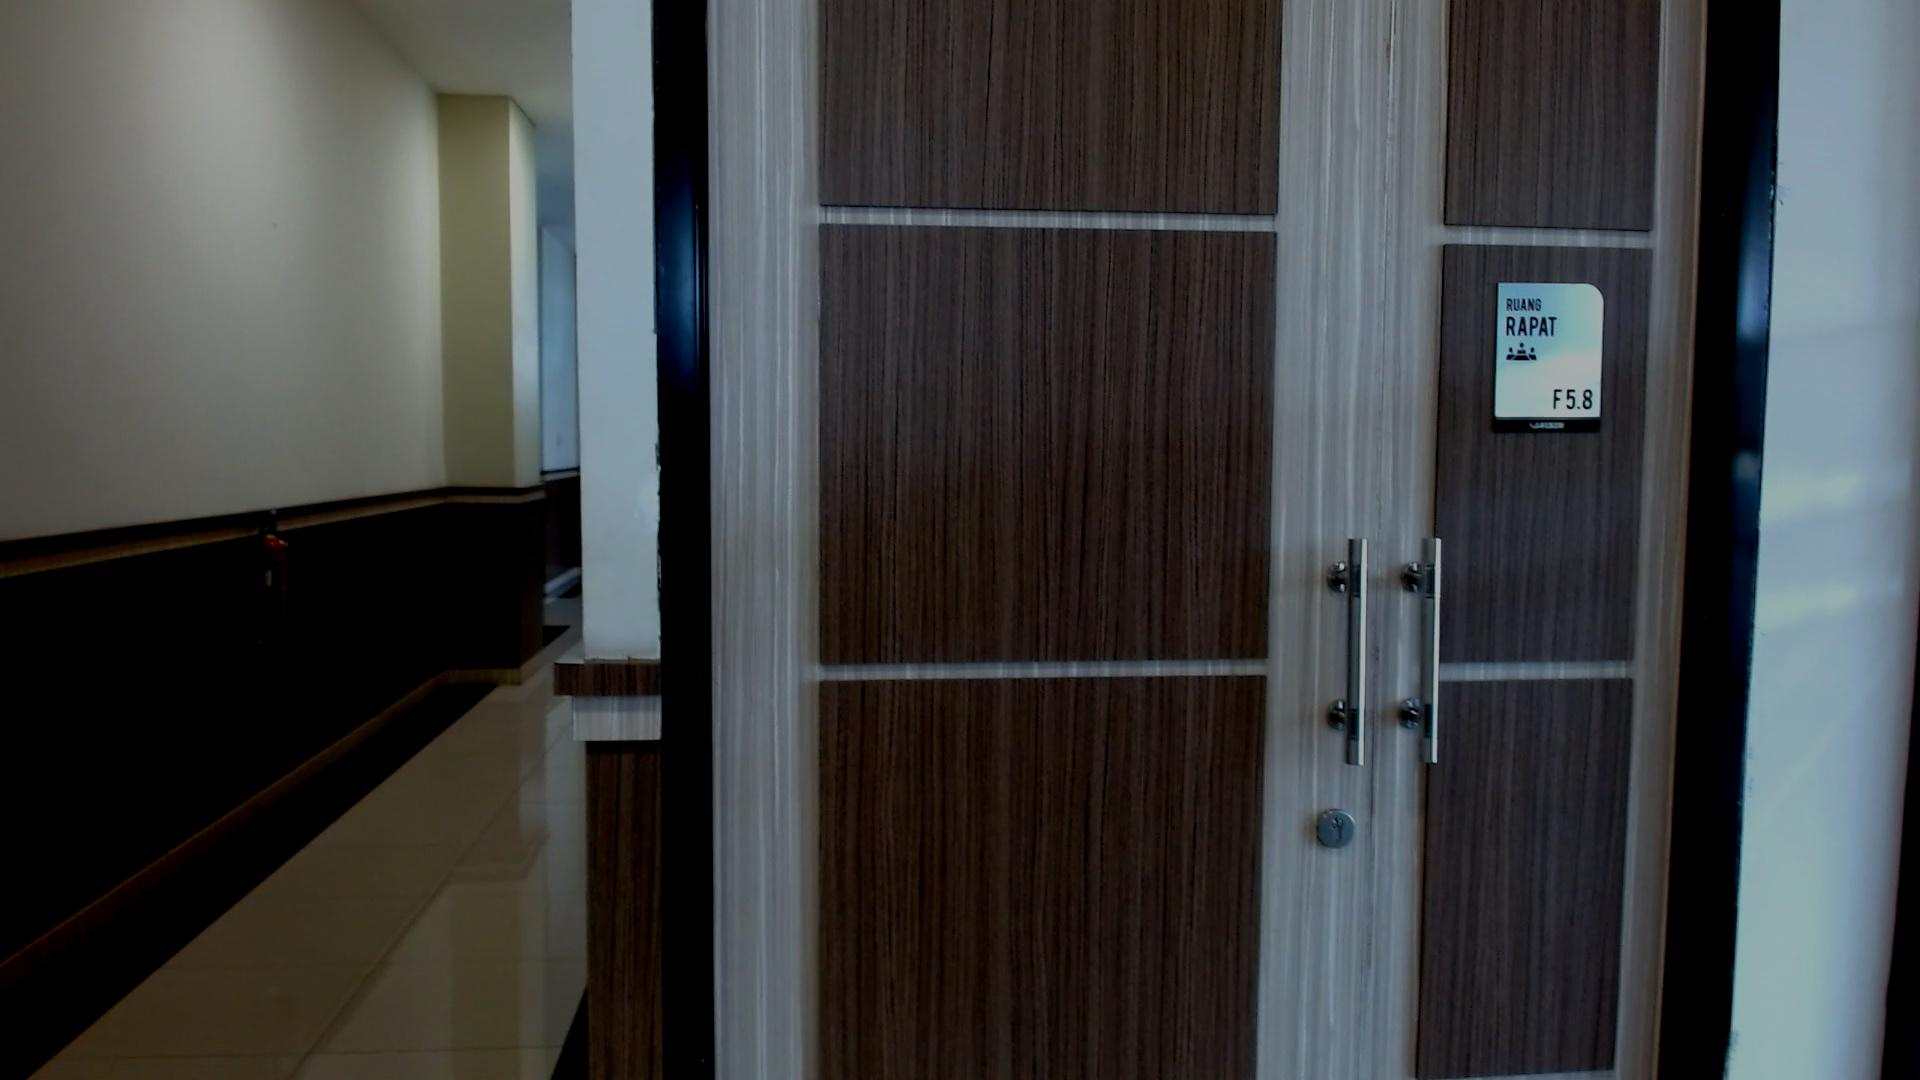plate: (1495, 282, 1605, 434)
